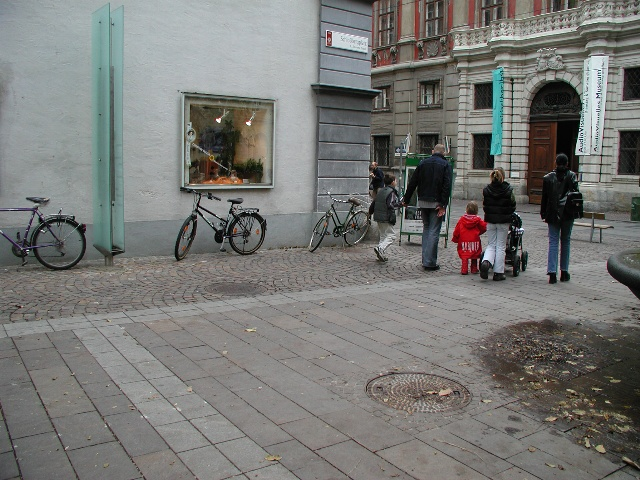person: (413, 141, 452, 269), (540, 149, 576, 283), (482, 165, 514, 281)
